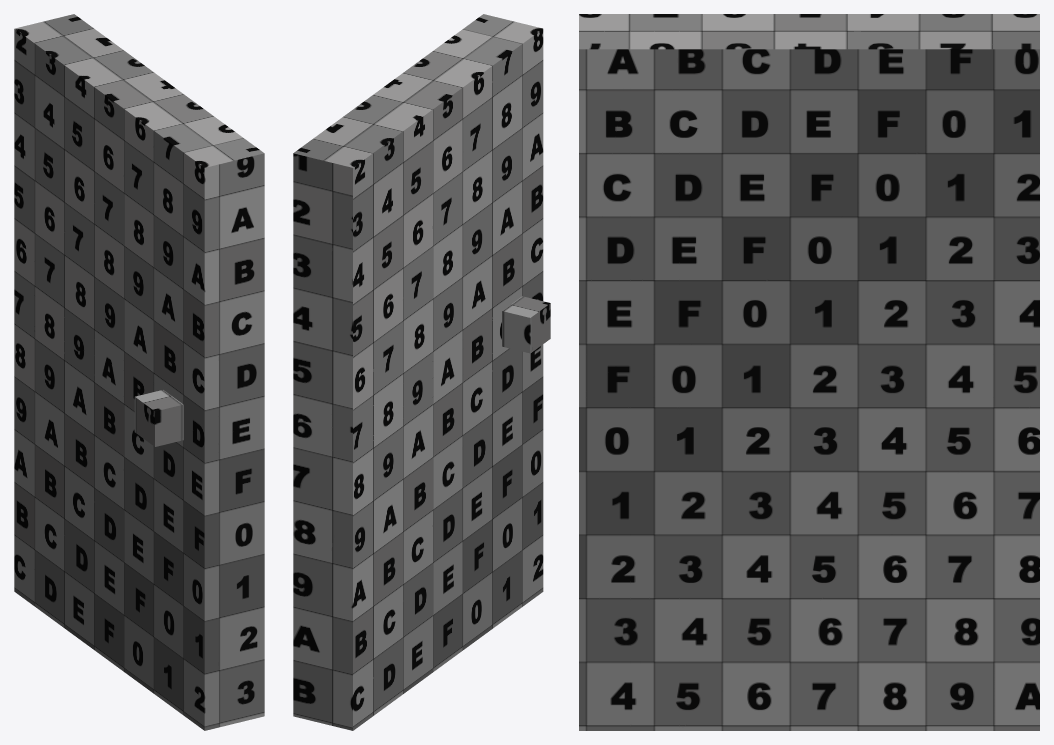
File: door_test.fbx
3 renders of one model, left to right at view 1: azimuth 30°, elevation 25°; view 2: azimuth 150°, elevation 25°; view 3: azimuth 270°, elevation 25°, orthographic. The views are drawn at different scales.
Parts seen in each view (by area): view 1: pCube3; view 2: pCube3; view 3: pCube3.
Part boxes in pixels (box(x1,y1,x2,y2)): pCube3: box(14, 14, 264, 730); pCube3: box(293, 14, 550, 730); pCube3: box(579, 14, 1039, 730).
Bounding box in the file's own units: 0.2681 × 1.63 × 1.
Materials: 1 (1 with a texture image).
